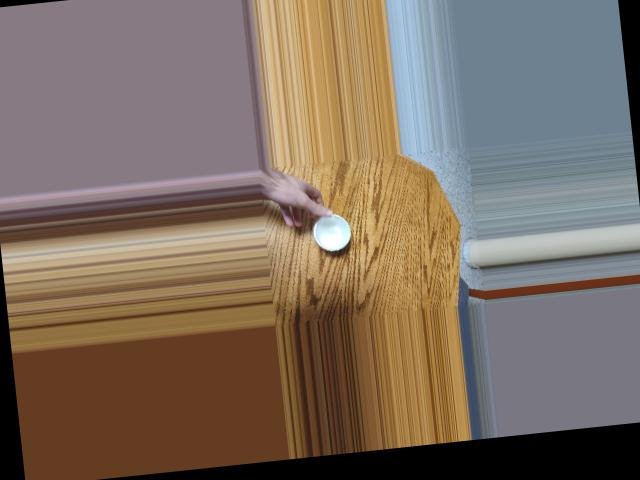cotage: (306, 205, 357, 255)
